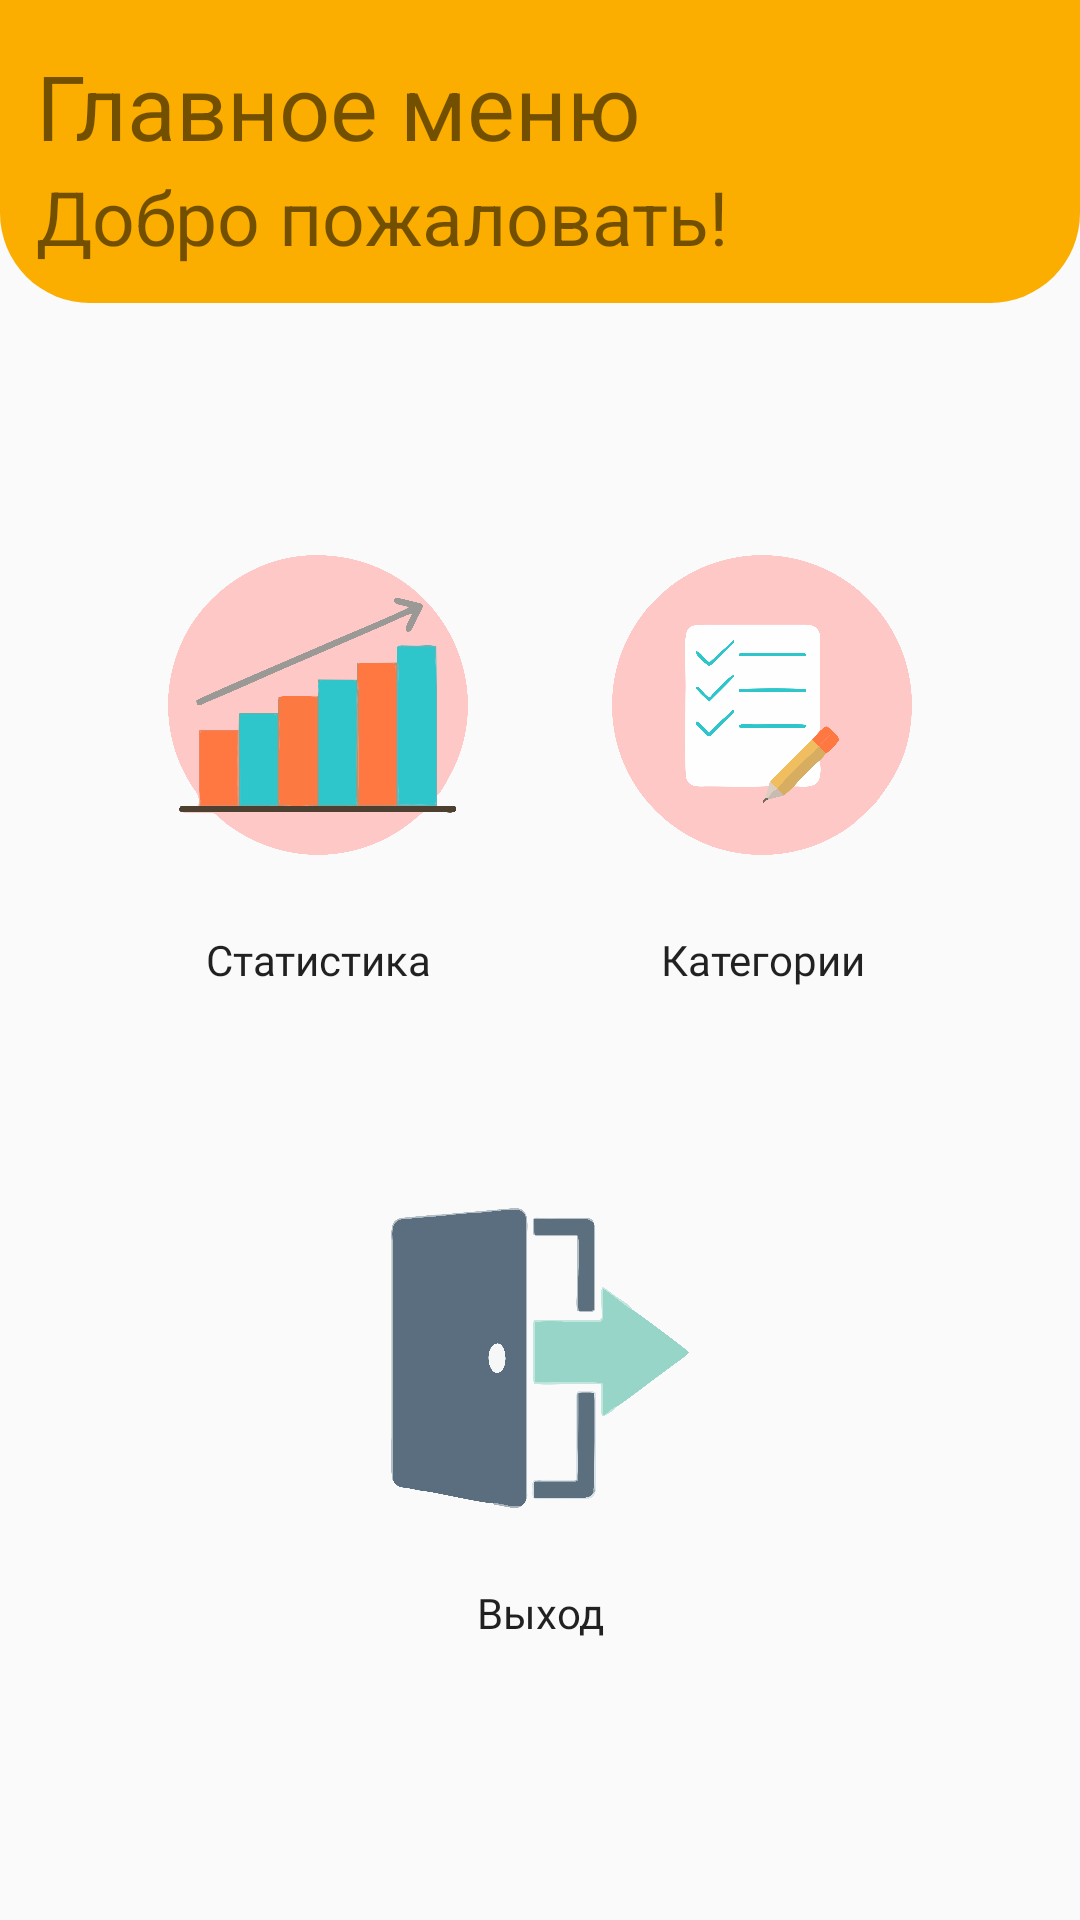

Point at icon controls on the screen. Image size 1080×1920, points as (x=x, y=y).
list: (x=762, y=705)
